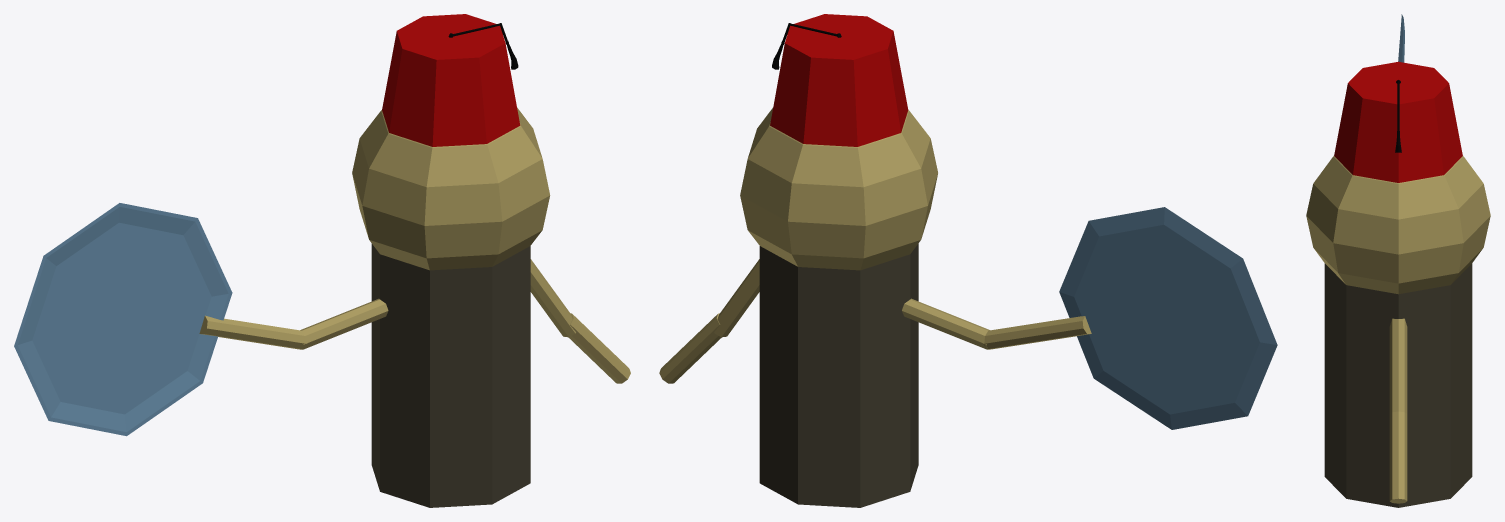
The model's file is Coffee.fbx.
The picture shows the model from 3 angles, left to right: view 1: azimuth 30°, elevation 25°; view 2: azimuth 150°, elevation 25°; view 3: azimuth 270°, elevation 25°; orthographic projection. The views are drawn at different scales.
Parts seen in each view (by area): view 1: pCylinder16, pCylinder19; view 2: pCylinder16, pCylinder19; view 3: pCylinder16, pCylinder19.
Part boxes in pixels (x1=…): pCylinder16: x1=352, y1=14, x2=630, y2=507; pCylinder19: x1=14, y1=203, x2=388, y2=436; pCylinder16: x1=659, y1=14, x2=937, y2=507; pCylinder19: x1=902, y1=207, x2=1277, y2=429; pCylinder16: x1=1306, y1=61, x2=1490, y2=507; pCylinder19: x1=1398, y1=14, x2=1404, y2=62.
Bounding box in the file's own units: 17.12 × 11.72 × 4.94.
